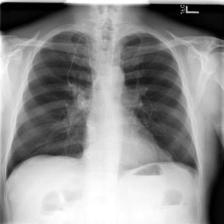normal: (2, 26, 205, 191)
